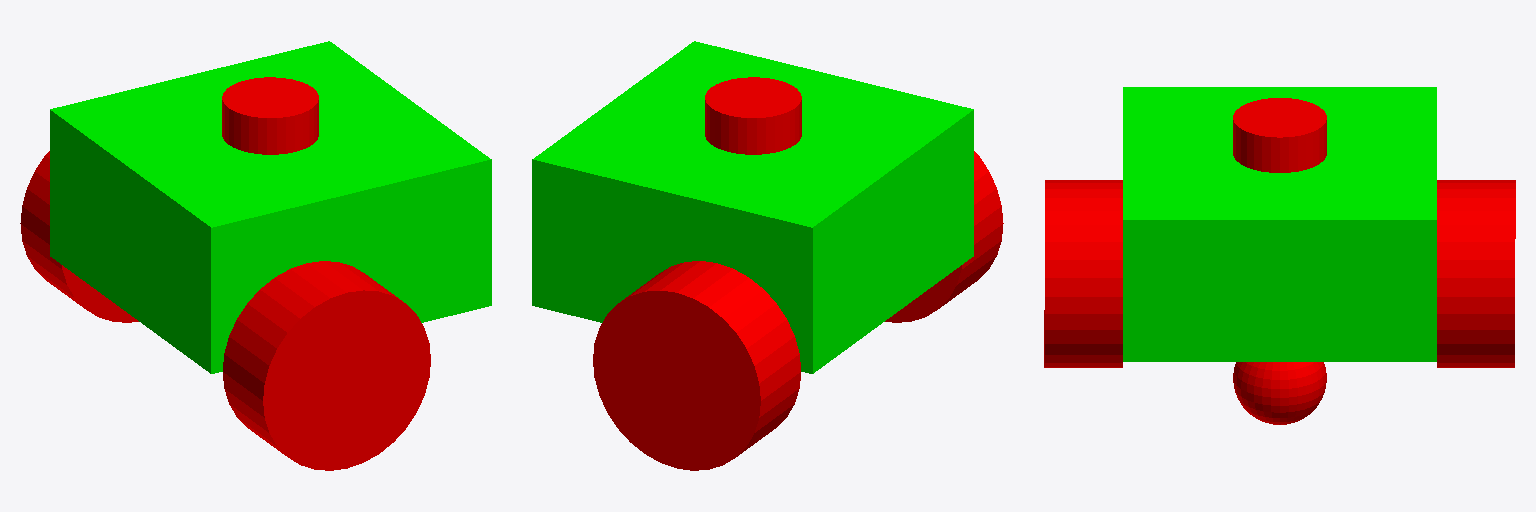
The robot description file, URDF, robot "my_robot":
<?xml version="1.0"?>
<robot name="my_robot">

    <link name="base_footprint"/>

    <joint name="base_footprint_joint" type="fixed">
        <parent link="base_footprint"/>
        <child link="base_link"/>
        <origin xyz="0 0 0.06"  rpy="0 0 0"/>
    </joint>

    <link name ="base_link">
        <visual>
            <geometry>
                <box size ="0.20 0.20 0.10"/>
            </geometry>
            <material name = "green">
                <color rgba ="0 1 0 1"/>
            </material>
            <origin xyz = "0 0 0.05" rpy="0 0 0" />
        </visual>
        <inertial>
            <mass value="3.0"/>
            <inertia ixx="0.012500000000000002" ixy="0.0" ixz="0.0" iyy="0.012500000000000002" iyz="0.0" izz="0.020000000000000004"/>
        </inertial>

        <collision>
            <geometry>
                <box size ="0.20 0.20 0.10"/>
            </geometry>
        </collision>
    </link>


    <joint name="imu_joint" type="fixed">
        <origin xyz="0 0 0.1125" rpy="0 0 0"/>
        <parent link="base_link"/>
        <child link="imu_link"/>
    </joint>

    <link name="imu_link">
        <collision>
        <geometry>
            <cylinder length ="0.025" radius="0.03"/>
        </geometry>
        </collision>
        <visual>
        <geometry>
            <cylinder length ="0.025" radius="0.03"/>
        </geometry>
        <material name="red">
            <color rgba="1 0 0 1"/>
        </material>

        </visual>
        <inertial>
            <mass value="0.005"/>
            <inertia ixx="0.1" ixy="0.0" ixz="0.0" iyy="0.1" iyz="0.0" izz="0.1"/>
        </inertial>


    </link>

    <link name='right_wheel'>
        <visual>
            <geometry>
                <cylinder length ="0.05" radius="0.06"/>
            </geometry>
            <material name="red">
                <color rgba="1 0 0 1"/>
            </material>
            <origin xyz ="0 0 0" rpy ="0 0 0"/>
        </visual>
        <inertial>
            <mass value="0.3"/>
            <inertia ixx="0.0002775" ixy="0.0" ixz="0.0" iyy="0.0002775" iyz="0.0" izz="0.00037500000000000006"/>
        </inertial>

        <collision>
            <geometry>
                <cylinder length ="0.05" radius="0.06"/>
            </geometry>
        </collision>
    </link>

    <joint name="right_wheel_joint" type="continuous">
        <parent link="base_link"/>
        <child link="right_wheel"/>
        <origin xyz="-0.032 -0.125 0" rpy="1.57 0 0"/>
        <axis xyz="0 0 -1"/>
    </joint>

    <link name="left_wheel">
        <visual>
            <geometry>
                <cylinder length="0.05" radius="0.06"/>
            </geometry>
            <material name="red"/>
            <origin xyz="0 0 0" rpy="0 0 0"/>
        </visual>
        <inertial>
            <mass value="0.3"/>
            <inertia ixx="0.0002775" ixy="0.0" ixz="0.0" iyy="0.0002775" iyz="0.0" izz="0.00037500000000000006"/>
        </inertial>
        <collision>
            <geometry>
                <cylinder length="0.05" radius="0.06"/>
            </geometry>
        </collision>
    </link>

    <joint name="left_wheel_joint" type="continuous">
        <parent link="base_link"/>
        <child link="left_wheel"/>
        <origin xyz="-0.032 0.125 0" rpy="1.57 0 0"/>
        <axis xyz="0 0 -1"/>
    </joint>

    <link name="caster_wheel">
        <visual>
            <geometry>
                <sphere radius="0.03"/>
            </geometry>
            <material name="red"/>
            <origin xyz="0 0 0" rpy="0 0 0"/>
        </visual>
        <inertial>
            <mass value="1"/>
            <inertia ixx="0.00035999999999999997" ixy="0.0" ixz="0.0" iyy="0.00035999999999999997" iyz="0.0" izz="0.00035999999999999997"/>
        </inertial>
        <collision>
            <geometry>
                <sphere radius="0.03"/>
            </geometry>
        </collision>

    </link>

    <joint name="caster_wheel_joint" type="continuous">
        <parent link="base_link"/>
        <child link="caster_wheel"/>
        <origin xyz="0.06 0 -0.03" rpy="0 0 0"/>
        <axis xyz="0 1 0"/>
    </joint>

    <gazebo>
        <plugin filename="gz-sim-diff-drive-system"
                name="gz::sim::systems::DiffDrive">
            <left_joint>left_wheel_joint</left_joint>
            <right_joint>right_wheel_joint</right_joint>
            <wheel_separation>0.20</wheel_separation>
            <wheel_radius>0.06</wheel_radius>
            <odom_publish_frequency>1</odom_publish_frequency>
            <topic>cmd_vel</topic>
        </plugin>
    </gazebo>

    <gazebo>
        <plugin
            filename="gz-sim-sensors-system"
            name="gz::sim::systems::Sensors">
            <render_engine>ogre2</render_engine>
        </plugin>
    </gazebo>

    <gazebo>
        <plugin
        filename="gz-sim-scene-broadcaster-system"
        name="gz::sim::systems::SceneBroadcaster">
        </plugin>
    </gazebo>


    <gazebo reference="imu_link">
        <sensor name="imu_sensor" type="imu">
            <pose>0 0 0 0 0 0</pose>
            <always_on>1</always_on>
            <update_rate>1</update_rate>
            <visualize>true</visualize>
            <topic>imu</topic>
        </sensor>
    </gazebo>

    <gazebo reference="imu_link">
        <sensor name='gpu_lidar' type='gpu_lidar'>
            <gz_frame_id>imu_link</gz_frame_id>
            <pose>0 0 0 0 0 0</pose>
            <topic>lidar</topic>
            <update_rate>1</update_rate>
            <ray>
                <scan>
                    <horizontal>
                        <samples>640</samples>
                        <resolution>1</resolution>
                        <min_angle>-1.396263</min_angle>
                        <max_angle>1.396263</max_angle>
                    </horizontal>
                    <vertical>
                        <samples>1</samples>
                        <resolution>0.01</resolution>
                        <min_angle>0</min_angle>
                        <max_angle>0</max_angle>
                    </vertical>
                </scan>
                <range>
                    <min>0.08</min>
                    <max>10.0</max>
                    <resolution>0.01</resolution>
                </range>
            </ray>
            <always_on>1</always_on>
            <visualize>true</visualize>
        </sensor>
    </gazebo>

    <gazebo reference="imu_link">
        <sensor name="rgbd_camera" type="rgbd_camera">
          <update_rate>10</update_rate>
          <topic>rgbd_camera</topic>
          <camera>
            <horizontal_fov>1.05</horizontal_fov>
            <image>
              <width>256</width>
              <height>256</height>
            </image>
            <clip>
              <near>0.1</near>
              <far>10.0</far>
            </clip>
          </camera>
        </sensor>
    </gazebo>




</robot>        

--- Render facts (derived) ---
Views: 3 orthographic renders of the robot side by side, from view 1: azimuth 30°, elevation 25°; view 2: azimuth 150°, elevation 25°; view 3: azimuth 270°, elevation 25°.
Model my_robot with 6 links and 5 joints (3 continuous, 2 fixed), rooted at base_footprint, posed every joint at zero.
Links seen in each view (by area): view 1: base_link, right_wheel, imu_link, left_wheel; view 2: base_link, left_wheel, imu_link, right_wheel; view 3: base_link, left_wheel, right_wheel, imu_link, caster_wheel.
Link boxes in pixels (<box>): base_link: <box>50,41,491,373</box>; right_wheel: <box>223,261,430,470</box>; imu_link: <box>222,77,318,154</box>; left_wheel: <box>20,151,138,322</box>; base_link: <box>532,41,973,373</box>; left_wheel: <box>593,261,800,470</box>; imu_link: <box>705,77,801,154</box>; right_wheel: <box>885,151,1003,322</box>; base_link: <box>1123,87,1436,361</box>; left_wheel: <box>1437,180,1515,367</box>; right_wheel: <box>1044,180,1122,367</box>; imu_link: <box>1233,98,1326,172</box>; caster_wheel: <box>1233,362,1326,424</box>.
Size in the robot's own frame: 0.2 by 0.3001 by 0.185 metres.
Geometry: primitives only (box / cylinder / sphere), no mesh files.